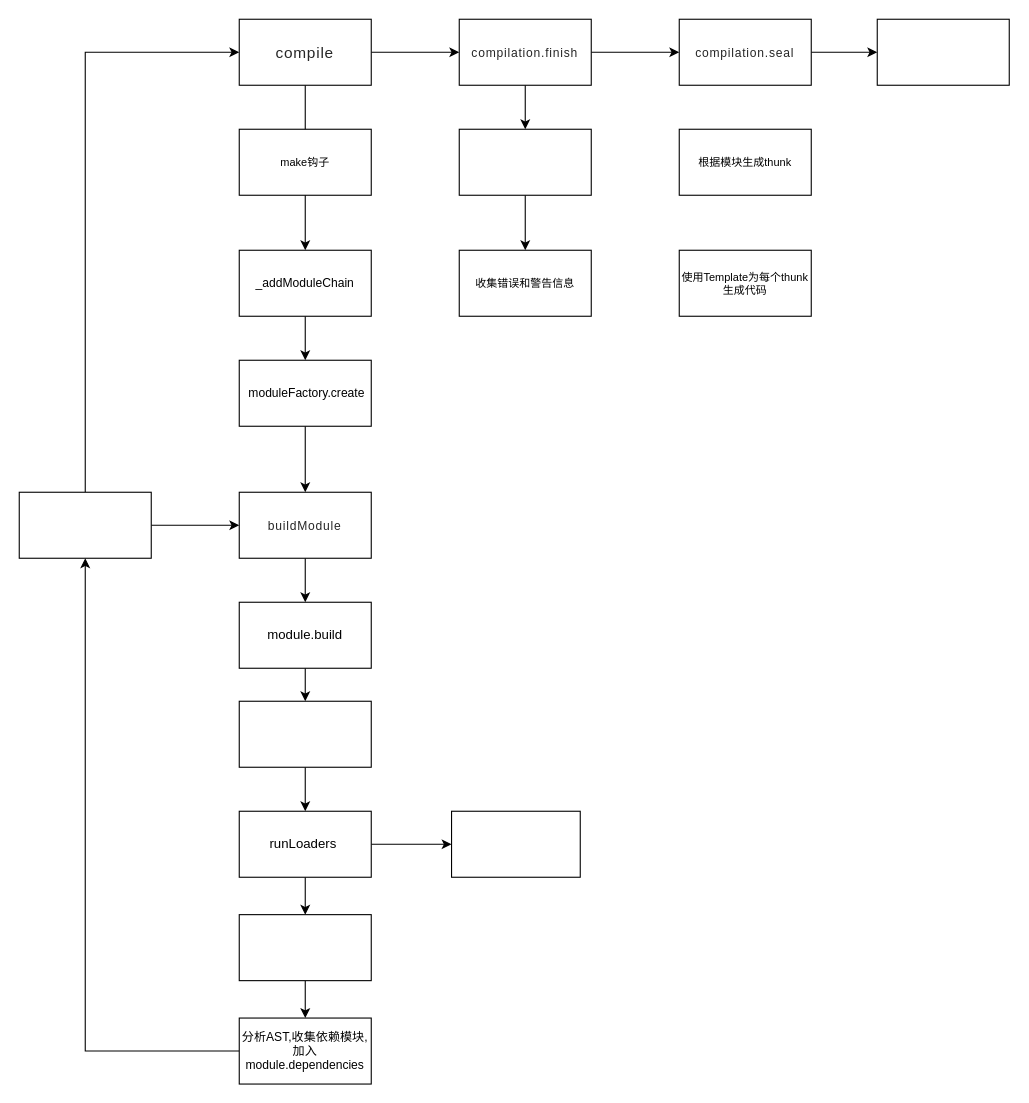
The diagram is 1029 pixels wide and 1103 high, and some of its shapes have lost their labels. The centre of each missing label's shape, as x and y in pixels:
afterBuild分析 module. dependencies: [84,524]
emitAssets: [942,51]
module.doBuild: [304,733]
代码转换为AST: [304,947]
获取loader和当前m模块文件代码,执行Loader: [515,843]
获取模块: [524,161]
